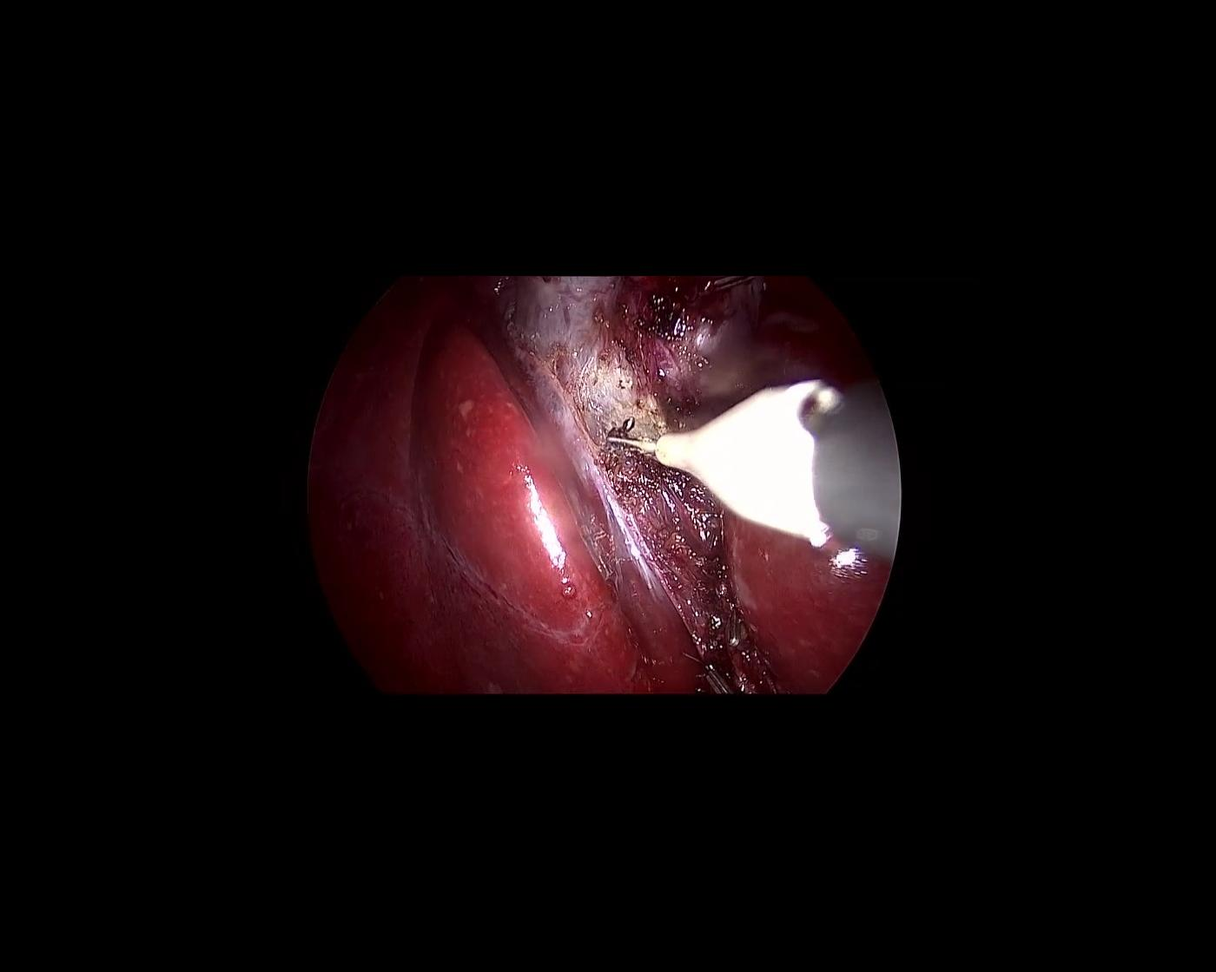Cautery: (587, 332, 927, 566)
Liver: (214, 242, 709, 825), (689, 274, 935, 704)
